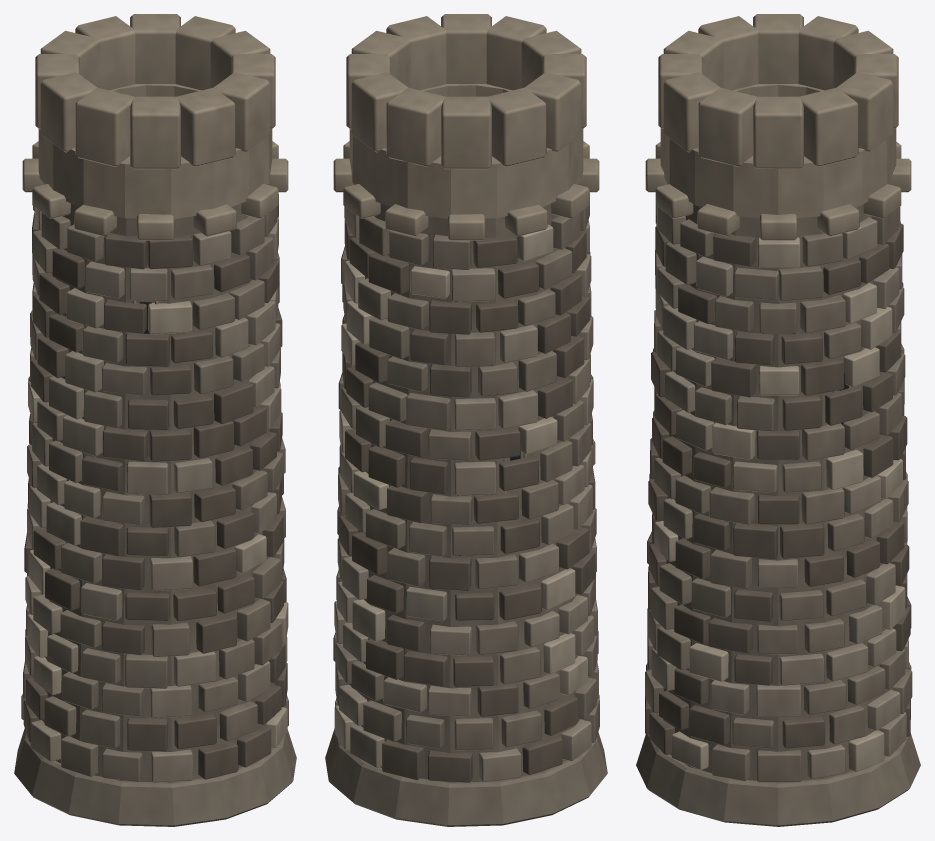
The model's file is torre_alva_e_luz_v3.glb.
The picture shows the model from 3 angles, left to right: view 1: azimuth 30°, elevation 25°; view 2: azimuth 150°, elevation 25°; view 3: azimuth 270°, elevation 25°; orthographic projection.
Parts seen in each view (by area): view 1: Torre de Alva e Luz | GLB; view 2: Torre de Alva e Luz | GLB; view 3: Torre de Alva e Luz | GLB.
Boxes of the visible parts, <box> form: Torre de Alva e Luz | GLB: <box>14,14,296,826</box>; Torre de Alva e Luz | GLB: <box>325,14,607,826</box>; Torre de Alva e Luz | GLB: <box>636,14,920,826</box>.
Bounding box in the file's own units: 1.91 × 5.21 × 1.91.
Materials: 1 (1 with a texture image).
